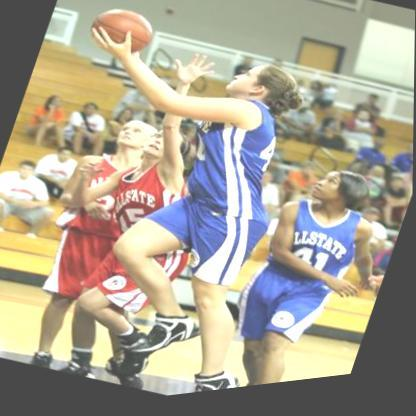basketball: (83, 0, 162, 71)
